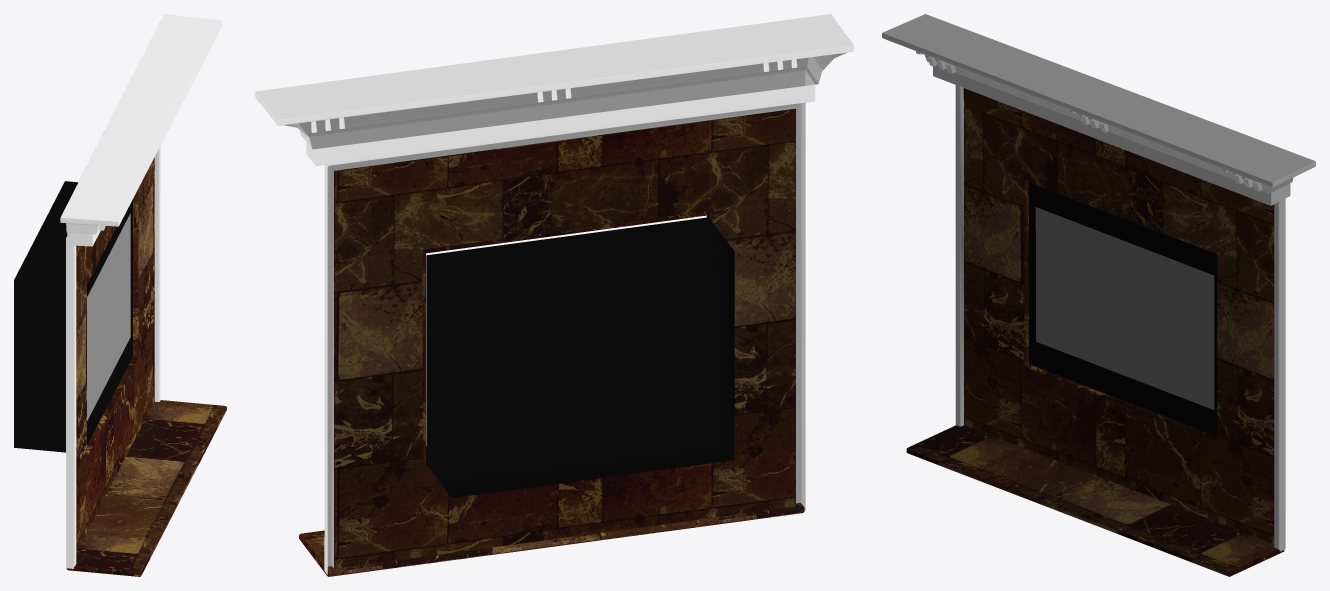
The model's file is FirePlace_9a323517.obj.
The picture shows the model from 3 angles, left to right: view 1: azimuth 30°, elevation 25°; view 2: azimuth 150°, elevation 25°; view 3: azimuth 270°, elevation 25°; orthographic projection. The views are drawn at different scales.
Visible parts, largest first — view 1: FirePlace_9a323517; view 2: FirePlace_9a323517; view 3: FirePlace_9a323517.
Boxes of the visible parts, left/top/right/bottom form: FirePlace_9a323517: left=14, top=14, right=226, bottom=576; FirePlace_9a323517: left=255, top=14, right=853, bottom=576; FirePlace_9a323517: left=882, top=14, right=1315, bottom=576.
Size of the model in its own units: 1.17 by 1.3 by 1.26.
